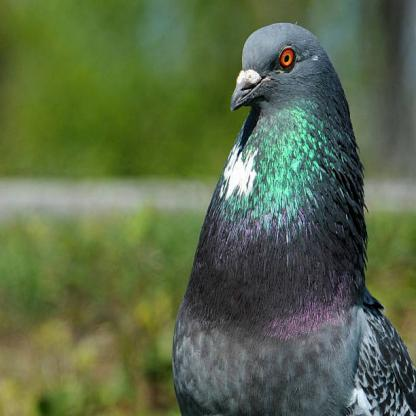Rock Pigeon: (178, 18, 413, 414)
